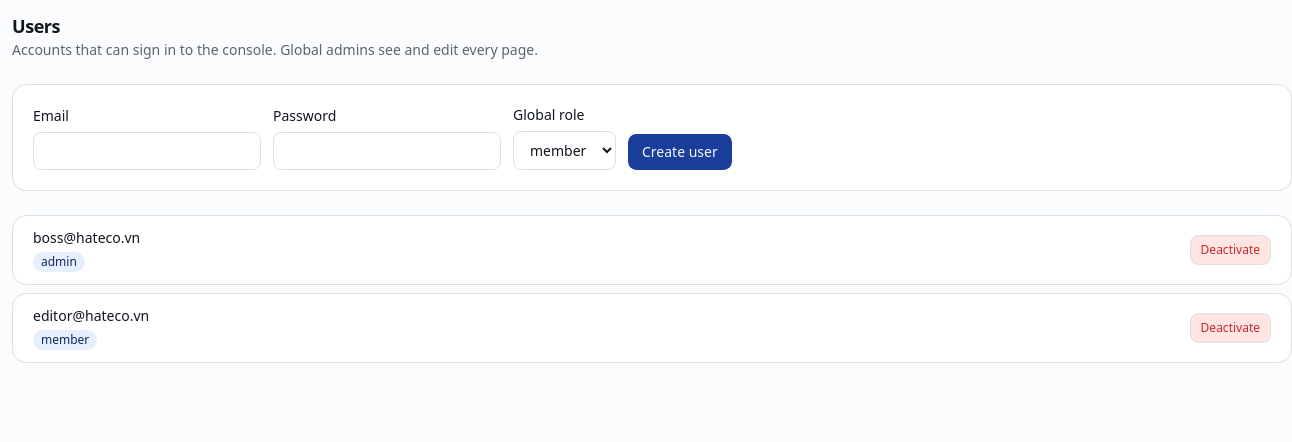
Test case: UsersPage › shows the server error when the email is taken
The image size is (1292, 442).
Check: the text "boss@hateco.vn" is shown, box [33, 228, 140, 248]
In the field labelled "Email": (147, 151) [33, 132, 261, 170], type "boss@hateco.vn"
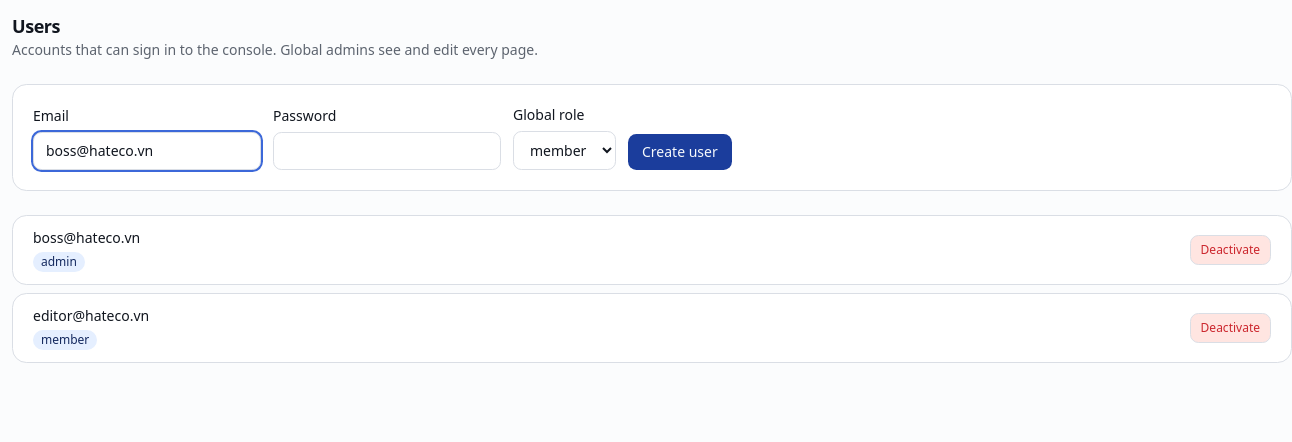
In the password field labelled "Password": (387, 151) [273, 132, 501, 170], type "another-pass-1"
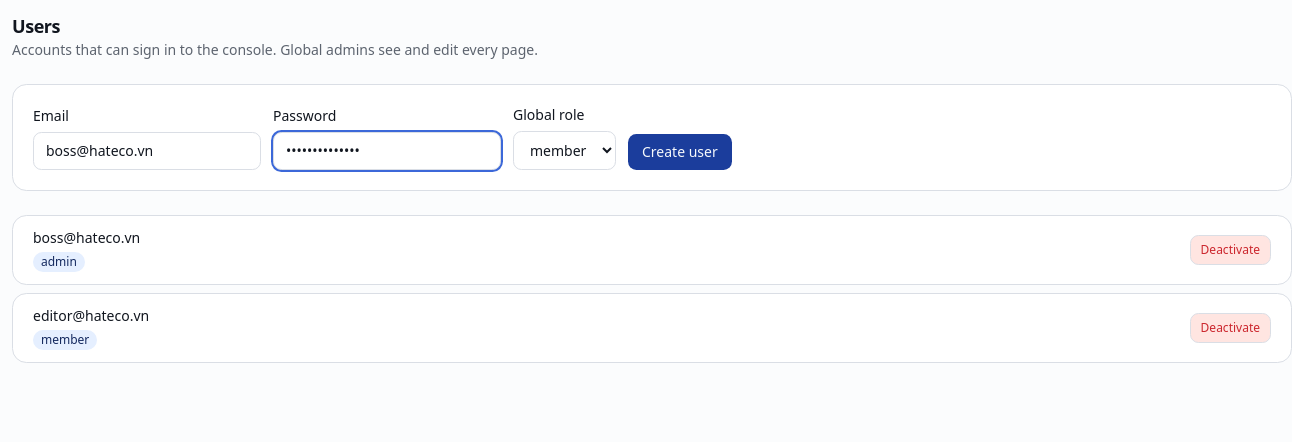
Click the button "Create user": (680, 152) [628, 134, 732, 170]
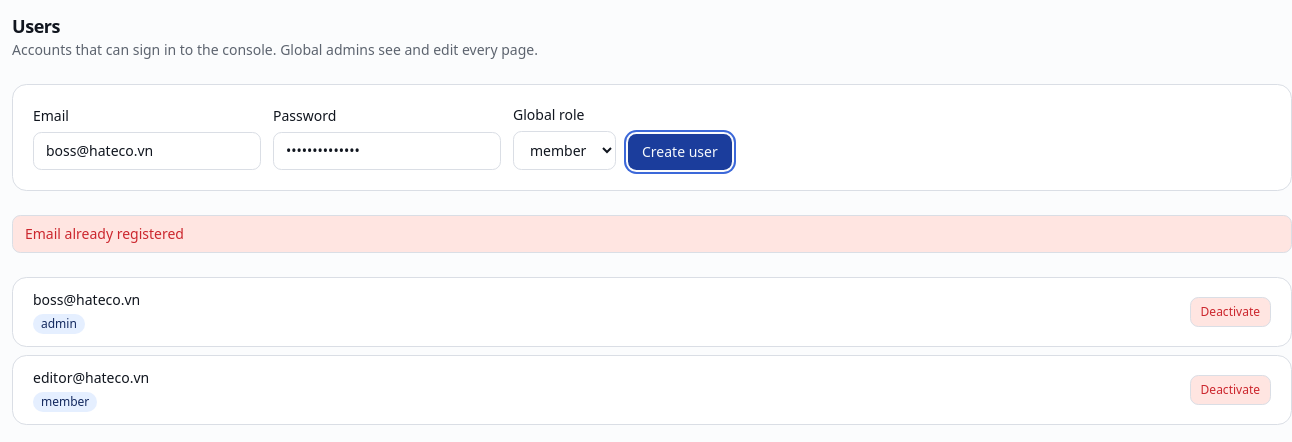
Check: the message reads "Email already registered", box [25, 224, 184, 243]
